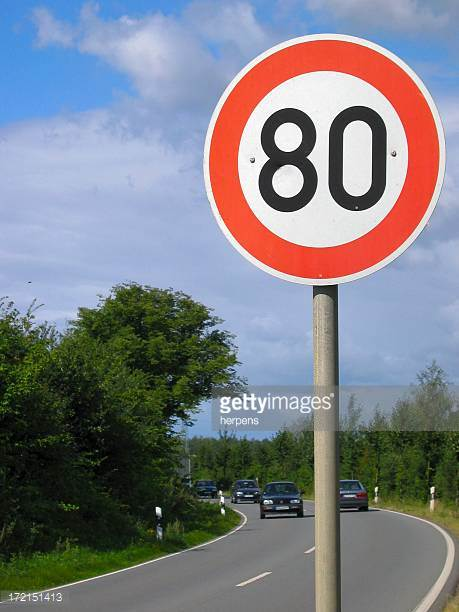Speed_limit_80km: (204, 35, 445, 281)
